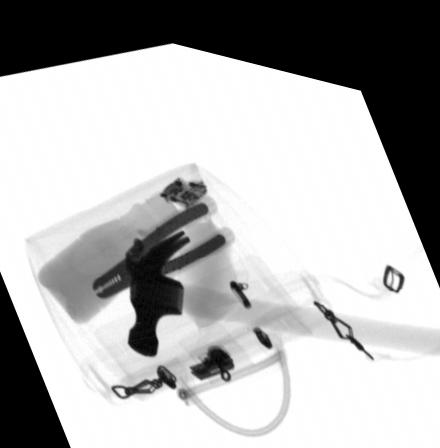Hammer: (127, 221, 440, 350)
Pliers: (92, 185, 236, 294)
